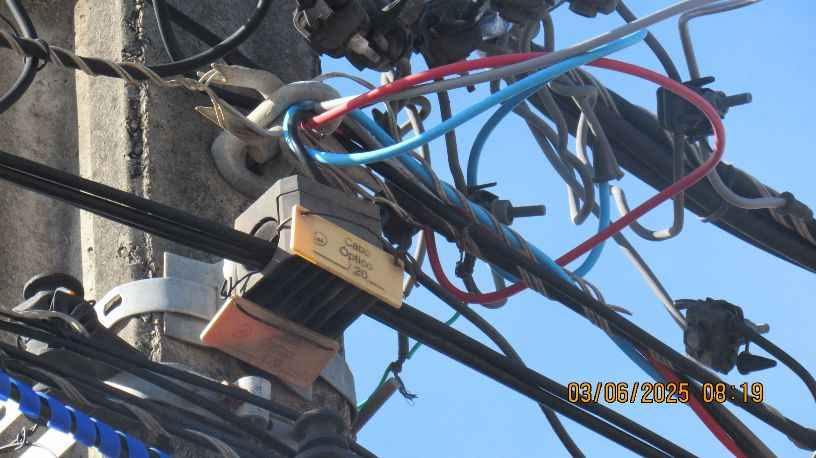fibra_optica: (192, 145, 464, 367)
